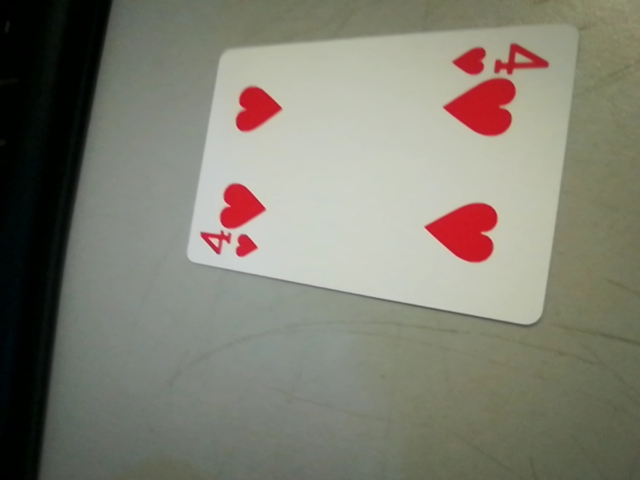hx 4: (442, 43, 551, 80)
